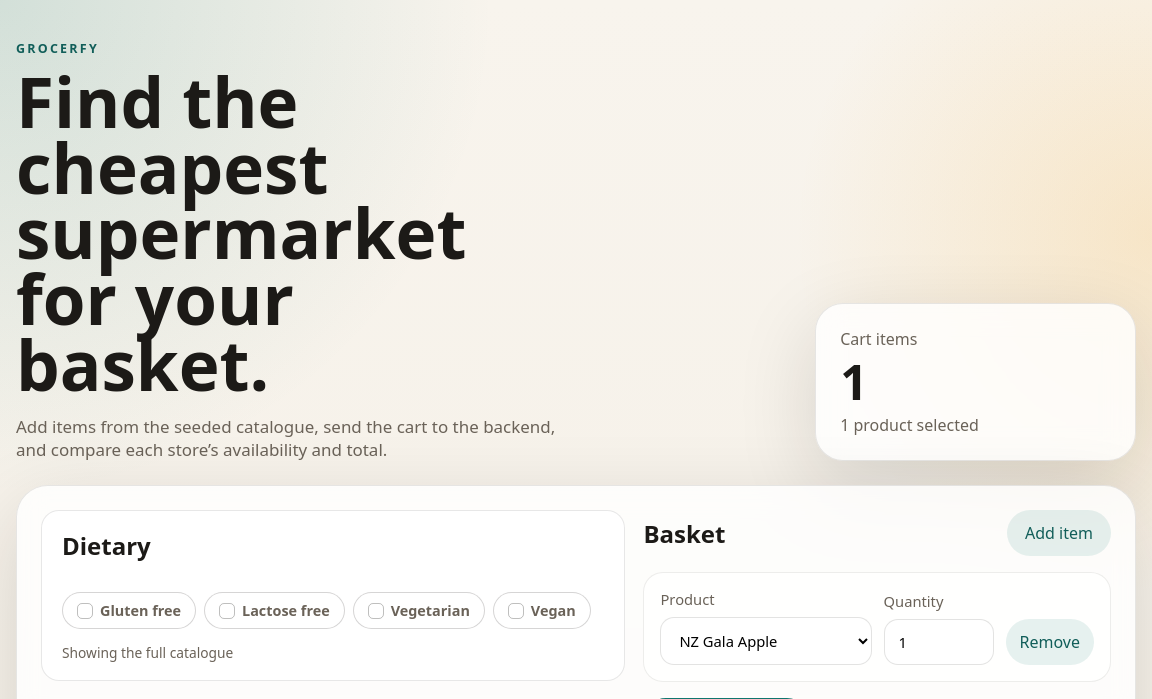
Scenario: basket interaction with the filter › removes a basket line whose product falls outside the filter
The image size is (1152, 699).
Select "Anchor Trim Milk" in the dropdown at coordinates (766, 641), box [660, 617, 872, 665]
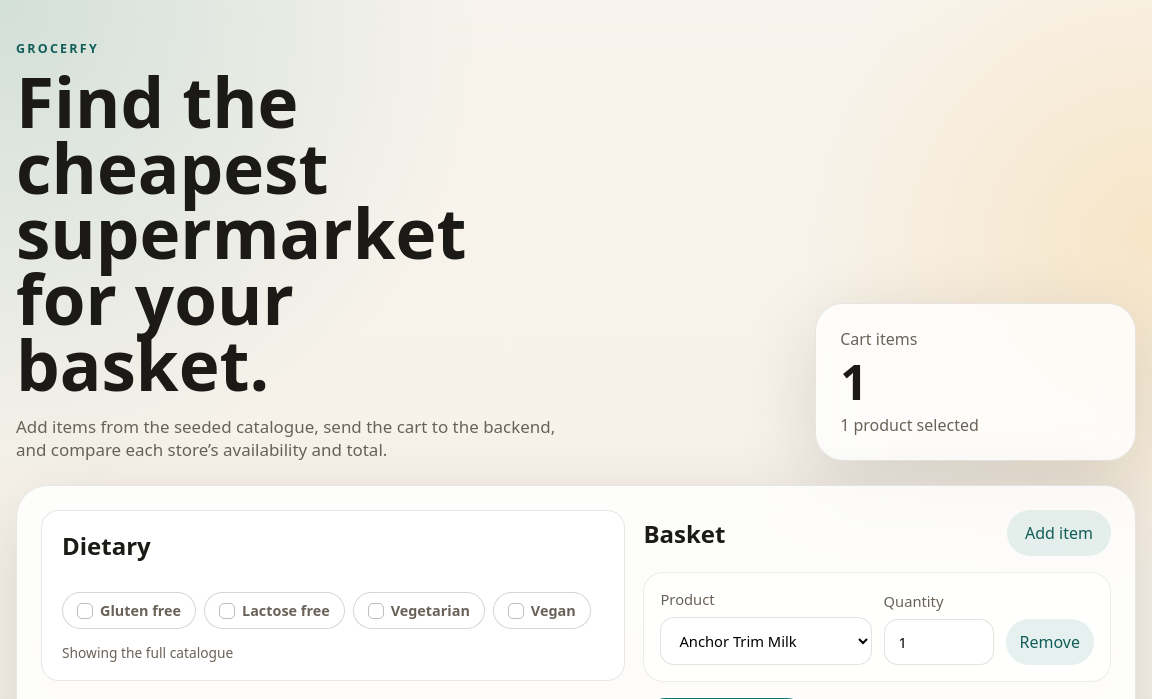
Result: the dropdown shows "Anchor Trim Milk" at [660, 617, 872, 665]
Click the checkbox labelled "Vegan" at coordinates (542, 611), box [493, 592, 591, 629]
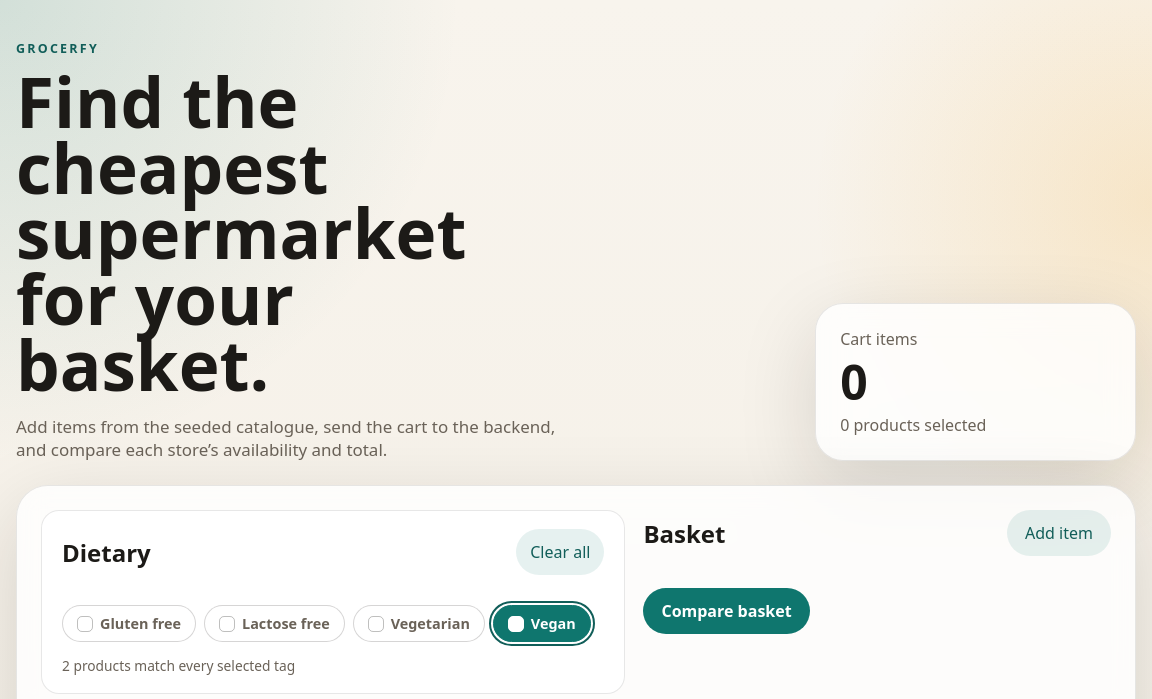
Result: the dropdown is gone
